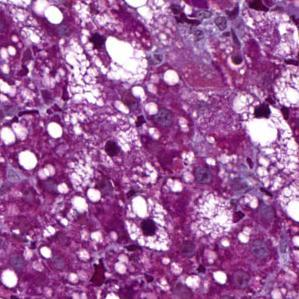ballooning: (228, 84, 294, 196), (79, 27, 150, 88), (122, 194, 174, 252)
